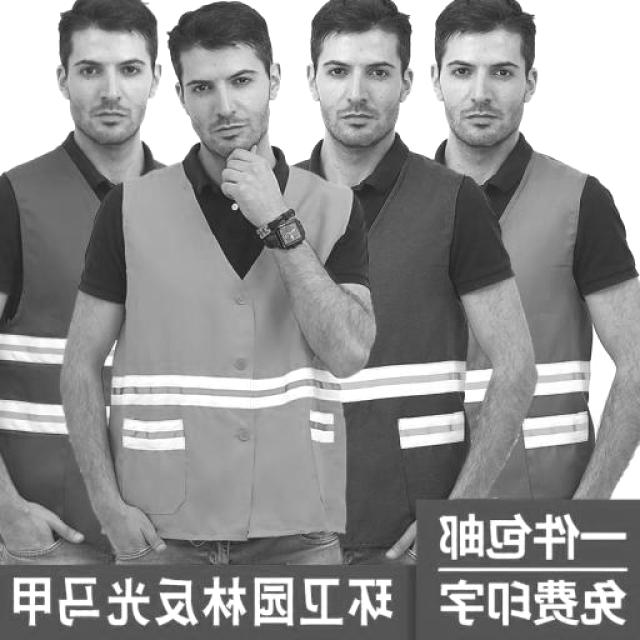face_nomask: (67, 51, 157, 136), (440, 54, 526, 132), (320, 54, 400, 135), (183, 63, 261, 141)
hand_noglove: (218, 147, 291, 225)
head_nohelmet: (162, 0, 279, 58), (420, 0, 549, 51), (299, 0, 417, 40), (52, 0, 164, 40)
person: (59, 0, 374, 562), (276, 0, 532, 564), (410, 0, 640, 545), (0, 0, 204, 569)
vest: (112, 150, 346, 545), (1, 133, 115, 548), (340, 153, 464, 534), (468, 151, 592, 491)
